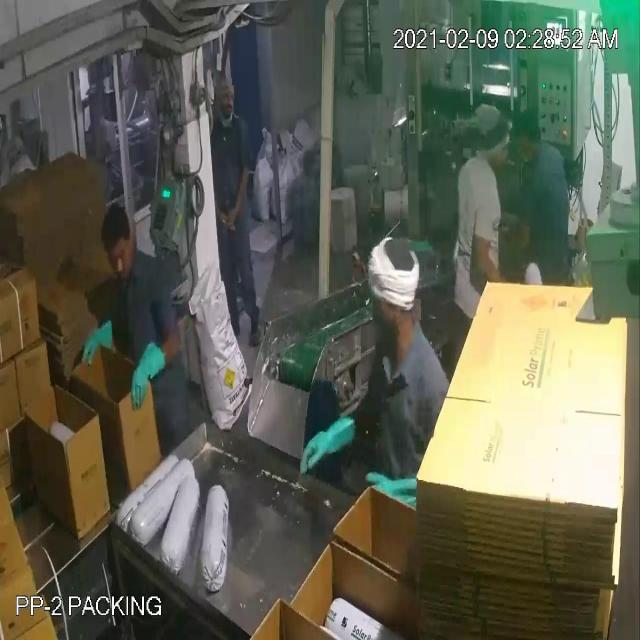Gloves: (32, 39, 518, 490)
